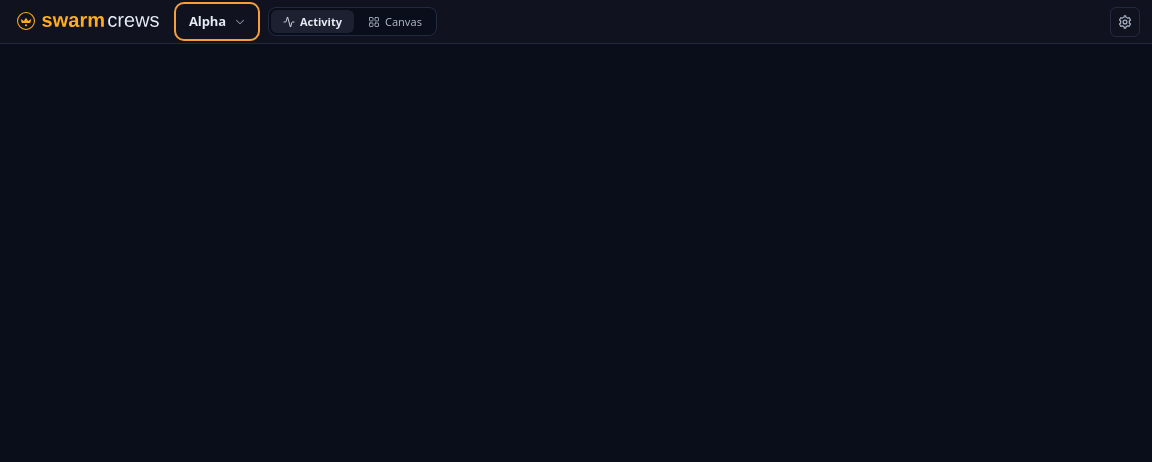
Test: project switcher counts-only activity › never overlaps slow requests and ignores a response after closing
The width and height of the screenshot is (1152, 462).
Click the button "Alpha" at (217, 22), box [178,6,256,37]
Wait 20000 ms
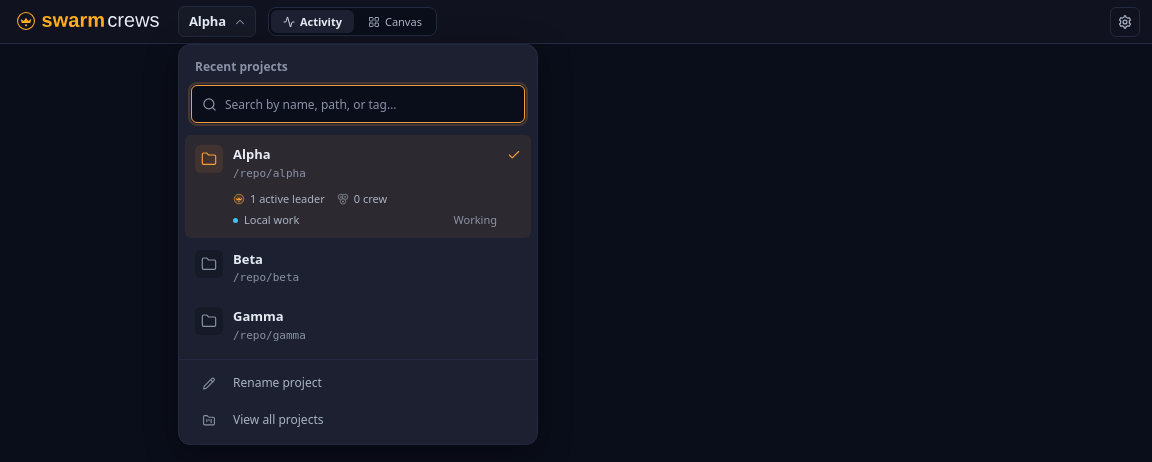
Click the button "Alpha" at (217, 22), box [178,6,256,37]
Wait 20000 ms
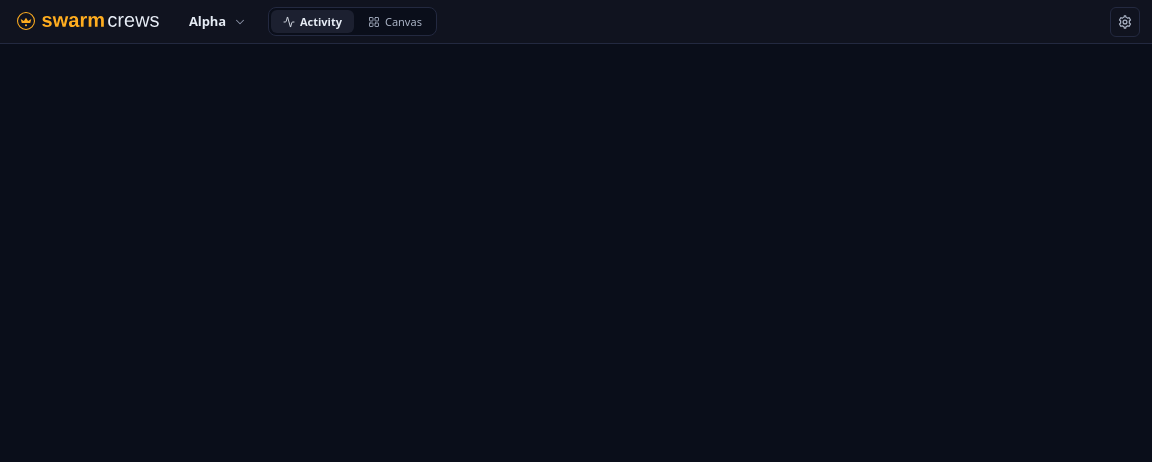
Result: the menu is gone
